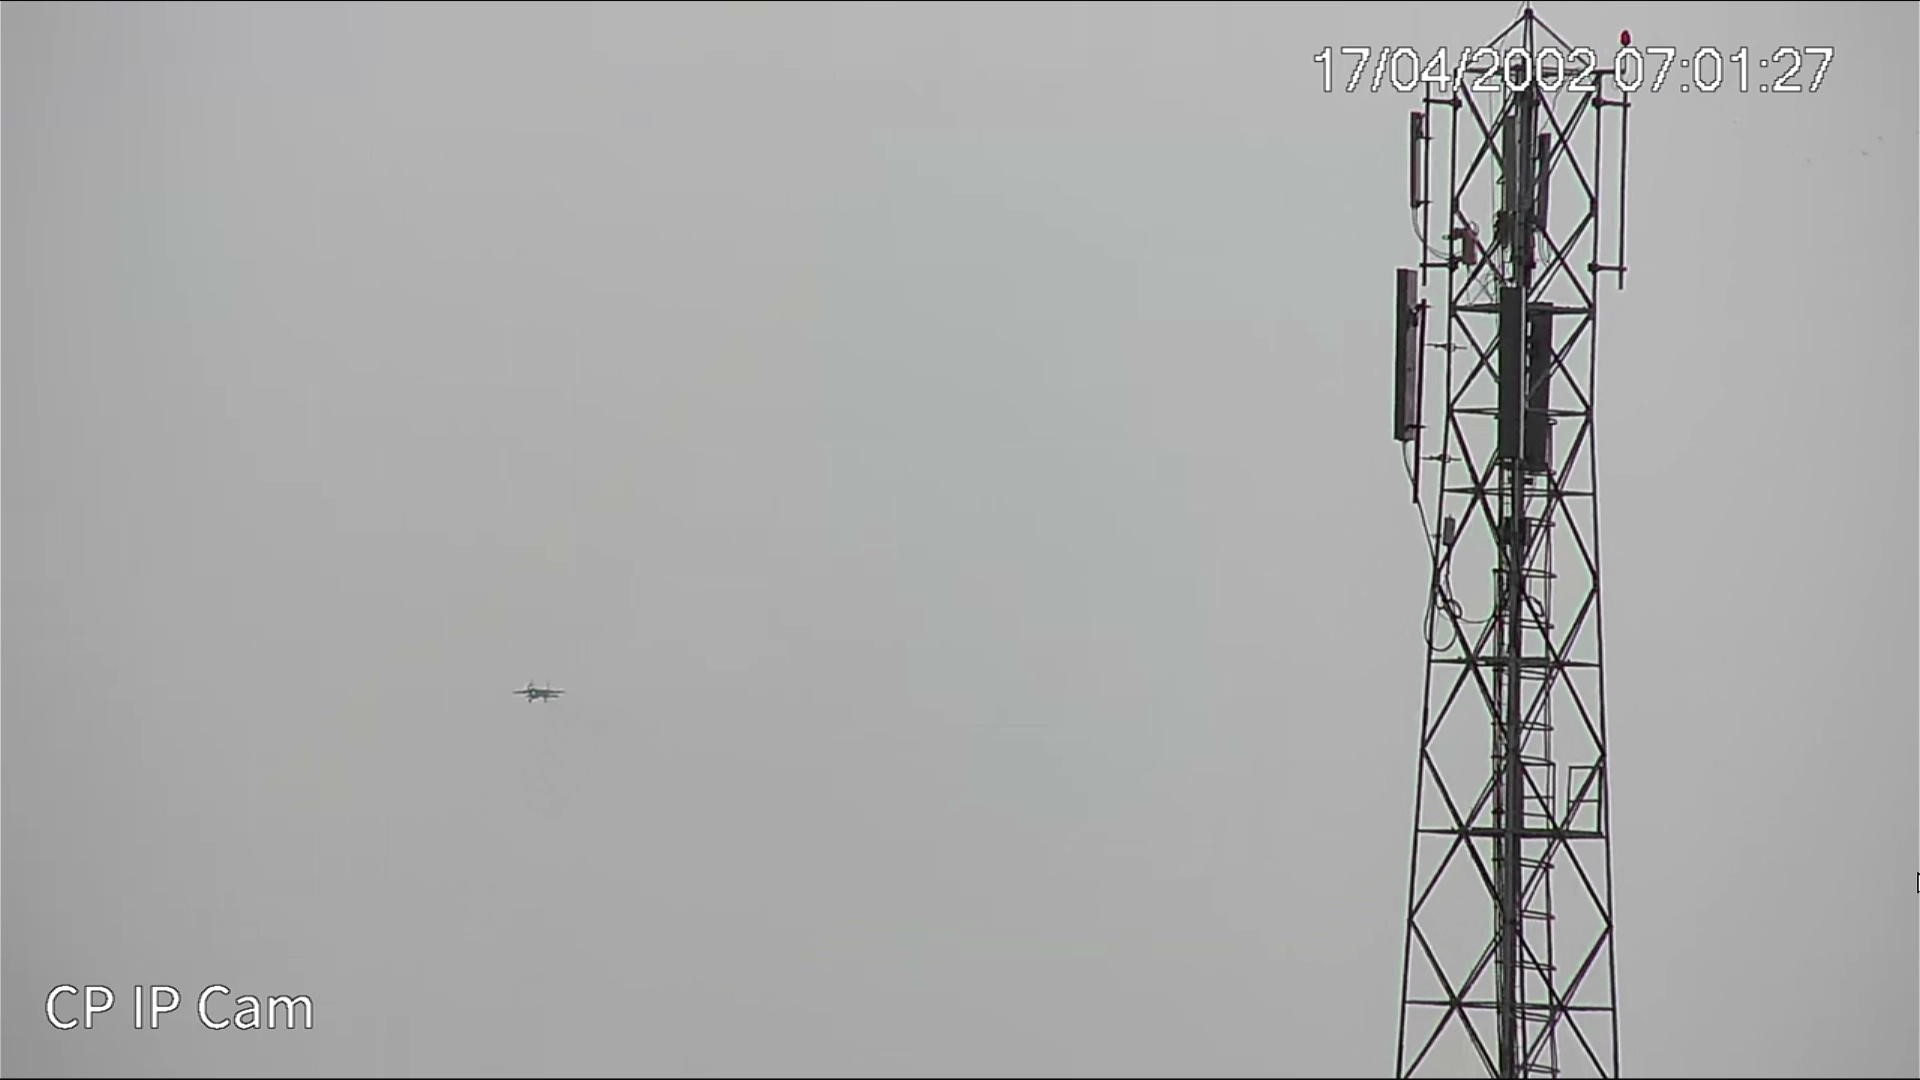SU_30: (512, 678, 566, 705)
